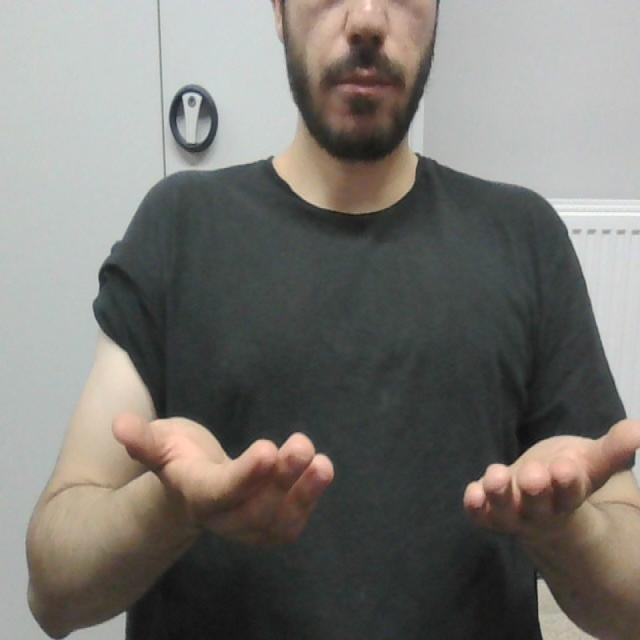Evet: (111, 399, 640, 552)
